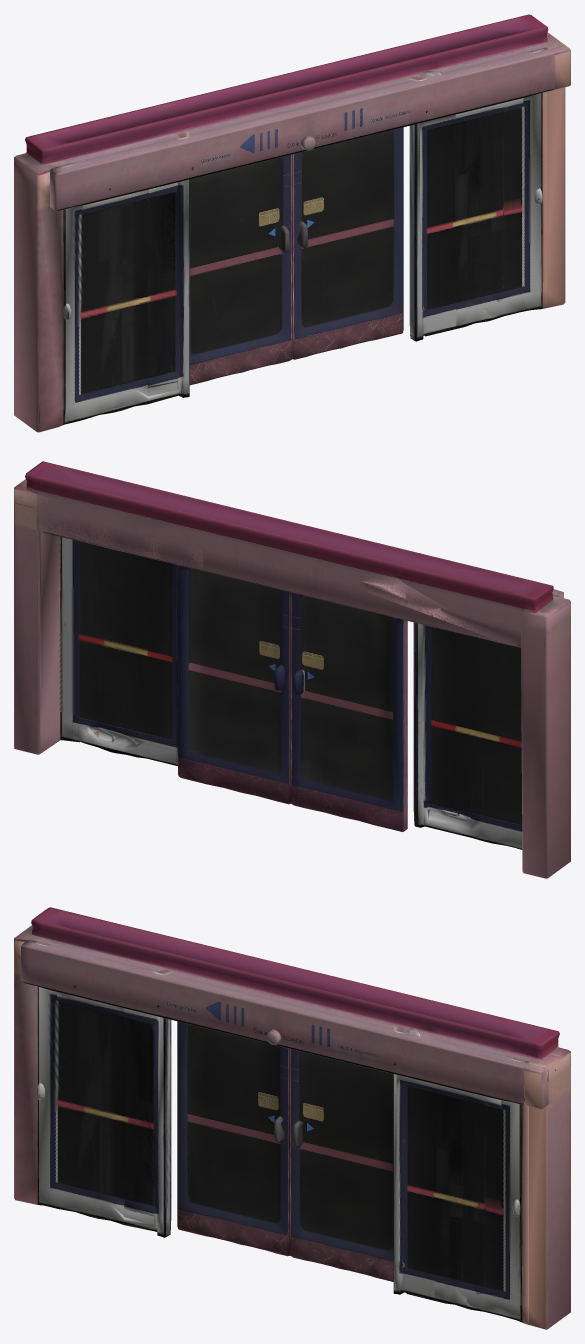
The model's file is Meshy_AI_Singil_Station_Entran_0517125526_texture.fbx.
The picture shows the model from 3 angles, top to bottom: view 1: azimuth 30°, elevation 25°; view 2: azimuth 150°, elevation 25°; view 3: azimuth 330°, elevation 25°; orthographic projection.
Visible parts, largest first — view 1: Mesh_0; view 2: Mesh_0; view 3: Mesh_0.
Part boxes in pixels (x1,y1,x2,y2): Mesh_0: (14,14,570,432); Mesh_0: (14,461,570,878); Mesh_0: (14,907,570,1329).
Bounding box in the file's own units: 191 × 94.72 × 20.74.
Materials: 1 (1 with a texture image).
